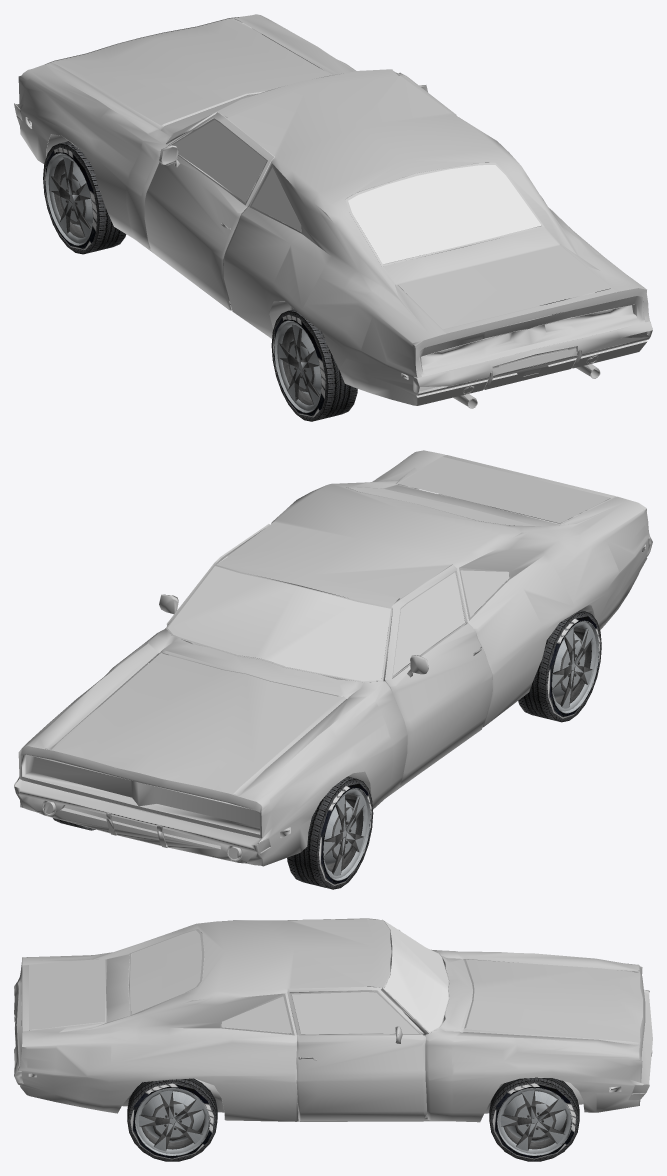
3 views of the same model, one above another, from view 1: azimuth 30°, elevation 25°; view 2: azimuth 150°, elevation 25°; view 3: azimuth 270°, elevation 25° (orthographic). The views are drawn at different scales.
Parts seen in each view (by area): view 1: 1969 classic body, 1969 classic body.001, 1969 classic glass.002, 1969 classic interior.001, 1969 classic body.003, 1969 classic body.002, 1969 classic tire.003, 1969 classic tire.001, 1969 classic glass.003; view 2: 1969 classic body, 1969 classic body.001, 1969 classic glass.001, 1969 classic body.003, 1969 classic interior.002, 1969 classic body.002, 1969 classic tire.001, 1969 classic tire.003, 1969 classic glass.003, 1969 classic glass.002; view 3: 1969 classic body, 1969 classic body.001, 1969 classic body.004, 1969 classic tire.002, 1969 classic tire, 1969 classic glass.004, 1969 classic body.002, 1969 classic glass.001, 1969 classic glass.002, 1969 classic interior.002, 1969 classic interior.001, 1969 classic body.003.
Boxes of the visible parts, bbox=[...] form: 1969 classic body: bbox=[16, 14, 650, 407]; 1969 classic body.001: bbox=[46, 17, 331, 125]; 1969 classic glass.002: bbox=[348, 165, 541, 264]; 1969 classic interior.001: bbox=[401, 296, 652, 408]; 1969 classic body.003: bbox=[144, 112, 274, 310]; 1969 classic body.002: bbox=[398, 245, 610, 329]; 1969 classic tire.003: bbox=[271, 309, 357, 421]; 1969 classic tire.001: bbox=[43, 141, 126, 254]; 1969 classic glass.003: bbox=[172, 120, 301, 231]; 1969 classic body: bbox=[16, 450, 649, 866]; 1969 classic body.001: bbox=[46, 652, 341, 796]; 1969 classic glass.001: bbox=[168, 566, 390, 680]; 1969 classic body.003: bbox=[21, 564, 492, 806]; 1969 classic interior.002: bbox=[14, 754, 290, 860]; 1969 classic body.002: bbox=[398, 457, 610, 523]; 1969 classic tire.001: bbox=[287, 776, 373, 889]; 1969 classic tire.003: bbox=[518, 610, 601, 722]; 1969 classic glass.003: bbox=[393, 570, 509, 675]; 1969 classic glass.002: bbox=[348, 487, 536, 526]; 1969 classic body: bbox=[14, 919, 652, 1122]; 1969 classic body.001: bbox=[465, 959, 642, 1045]; 1969 classic body.004: bbox=[287, 986, 427, 1121]; 1969 classic tire.002: bbox=[489, 1077, 579, 1161]; 1969 classic tire: bbox=[127, 1078, 217, 1161]; 1969 classic glass.004: bbox=[221, 992, 418, 1034]; 1969 classic body.002: bbox=[29, 959, 104, 1029]; 1969 classic glass.001: bbox=[384, 921, 448, 1032]; 1969 classic glass.002: bbox=[130, 930, 201, 1014]; 1969 classic interior.002: bbox=[609, 972, 652, 1094]; 1969 classic interior.001: bbox=[14, 967, 37, 1083]; 1969 classic body.003: bbox=[288, 918, 639, 1112].
Bounding box in the file's own units: 257 × 180 × 646.
